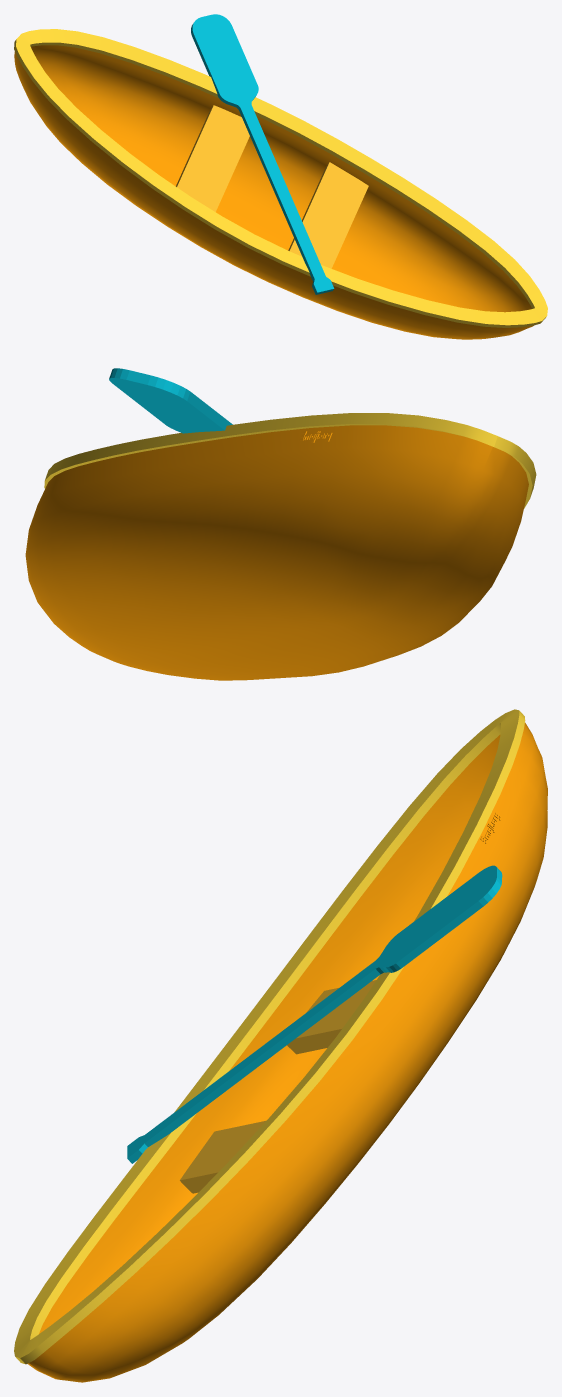
The model's file is canoe.fbx.
3 views of the same model, one above another, from view 1: azimuth 30°, elevation 25°; view 2: azimuth 150°, elevation 25°; view 3: azimuth 270°, elevation 25° (orthographic). The views are drawn at different scales.
Parts seen in each view (by area): view 1: Cube.762; view 2: Cube.762; view 3: Cube.762.
Boxes of the visible parts, x1,y1,x2,y2 form: Cube.762: (14, 14, 547, 339); Cube.762: (25, 368, 536, 680); Cube.762: (14, 709, 547, 1382).
Bounding box in the file's own units: 230 × 163 × 186.
1 material, 1 textured.
